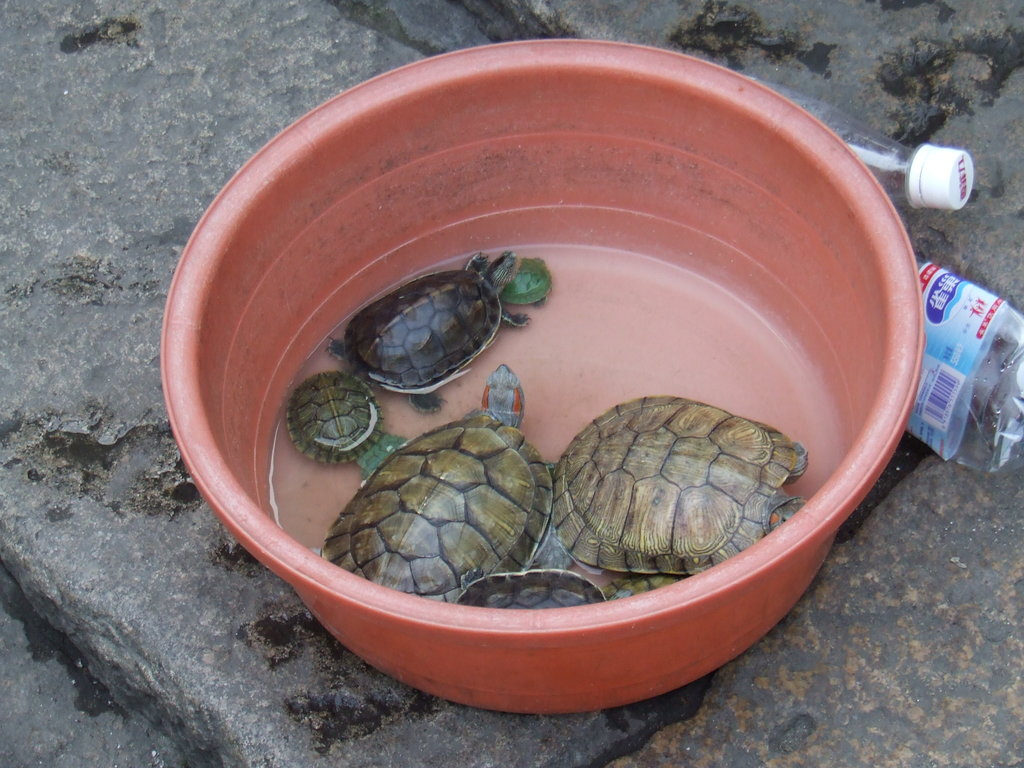Sea turtles: (280, 244, 810, 611)
